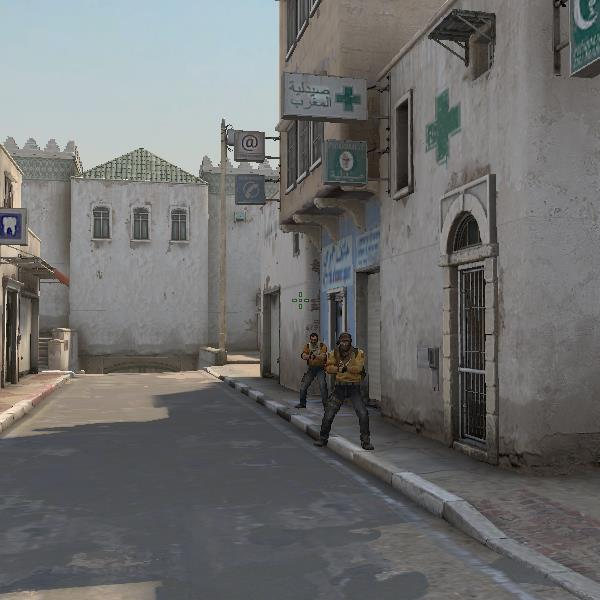t_body: (310, 328, 380, 453)
t_head: (334, 329, 359, 354)
